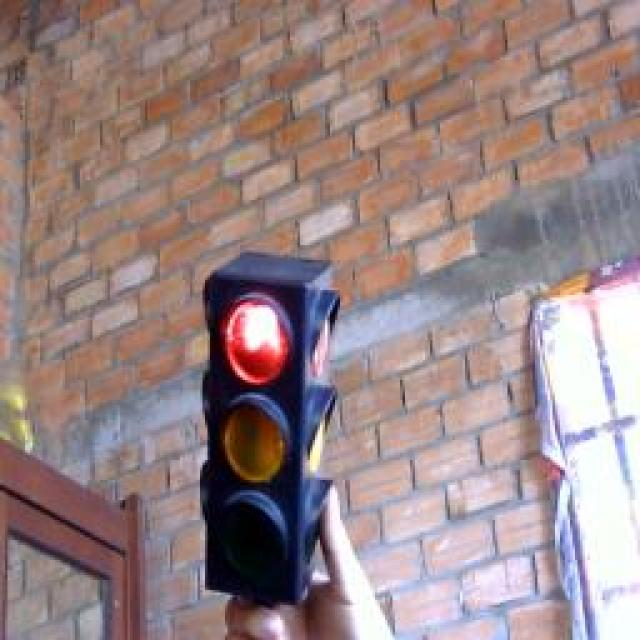-: (214, 277, 299, 395)
